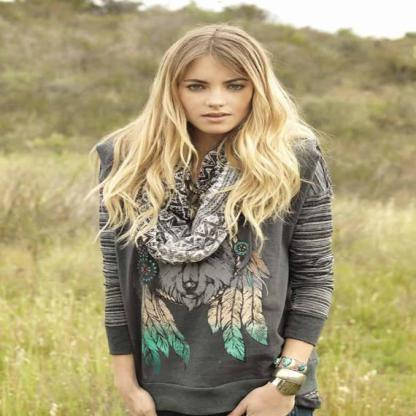long-hair: (100, 130, 310, 174)
